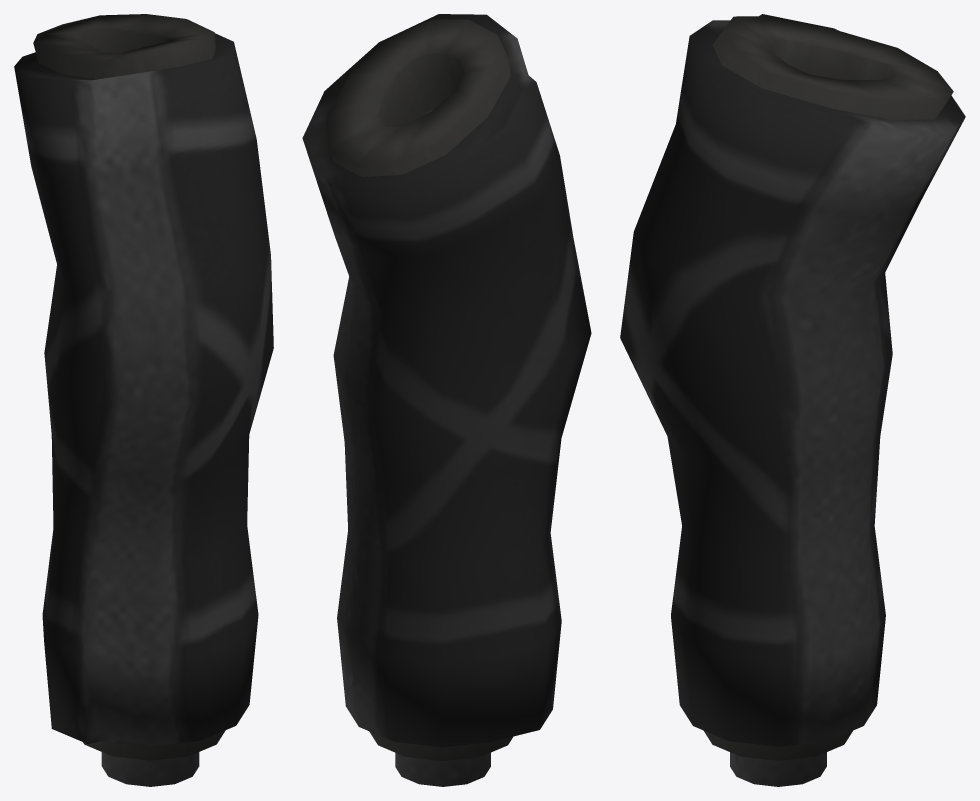
File: TLOG_MilitarySuppressorBroken.fbx
The picture shows the model from 3 angles, left to right: view 1: azimuth 30°, elevation 25°; view 2: azimuth 150°, elevation 25°; view 3: azimuth 270°, elevation 25°; orthographic projection.
Parts seen in each view (by area): view 1: Cylinder; view 2: Cylinder; view 3: Cylinder.
Part boxes in pixels (bbox=[...]): Cylinder: bbox=[14, 14, 273, 786]; Cylinder: bbox=[302, 14, 591, 786]; Cylinder: bbox=[620, 14, 965, 786].
Bounding box in the file's own units: 0.0398 × 0.1353 × 0.0575.
